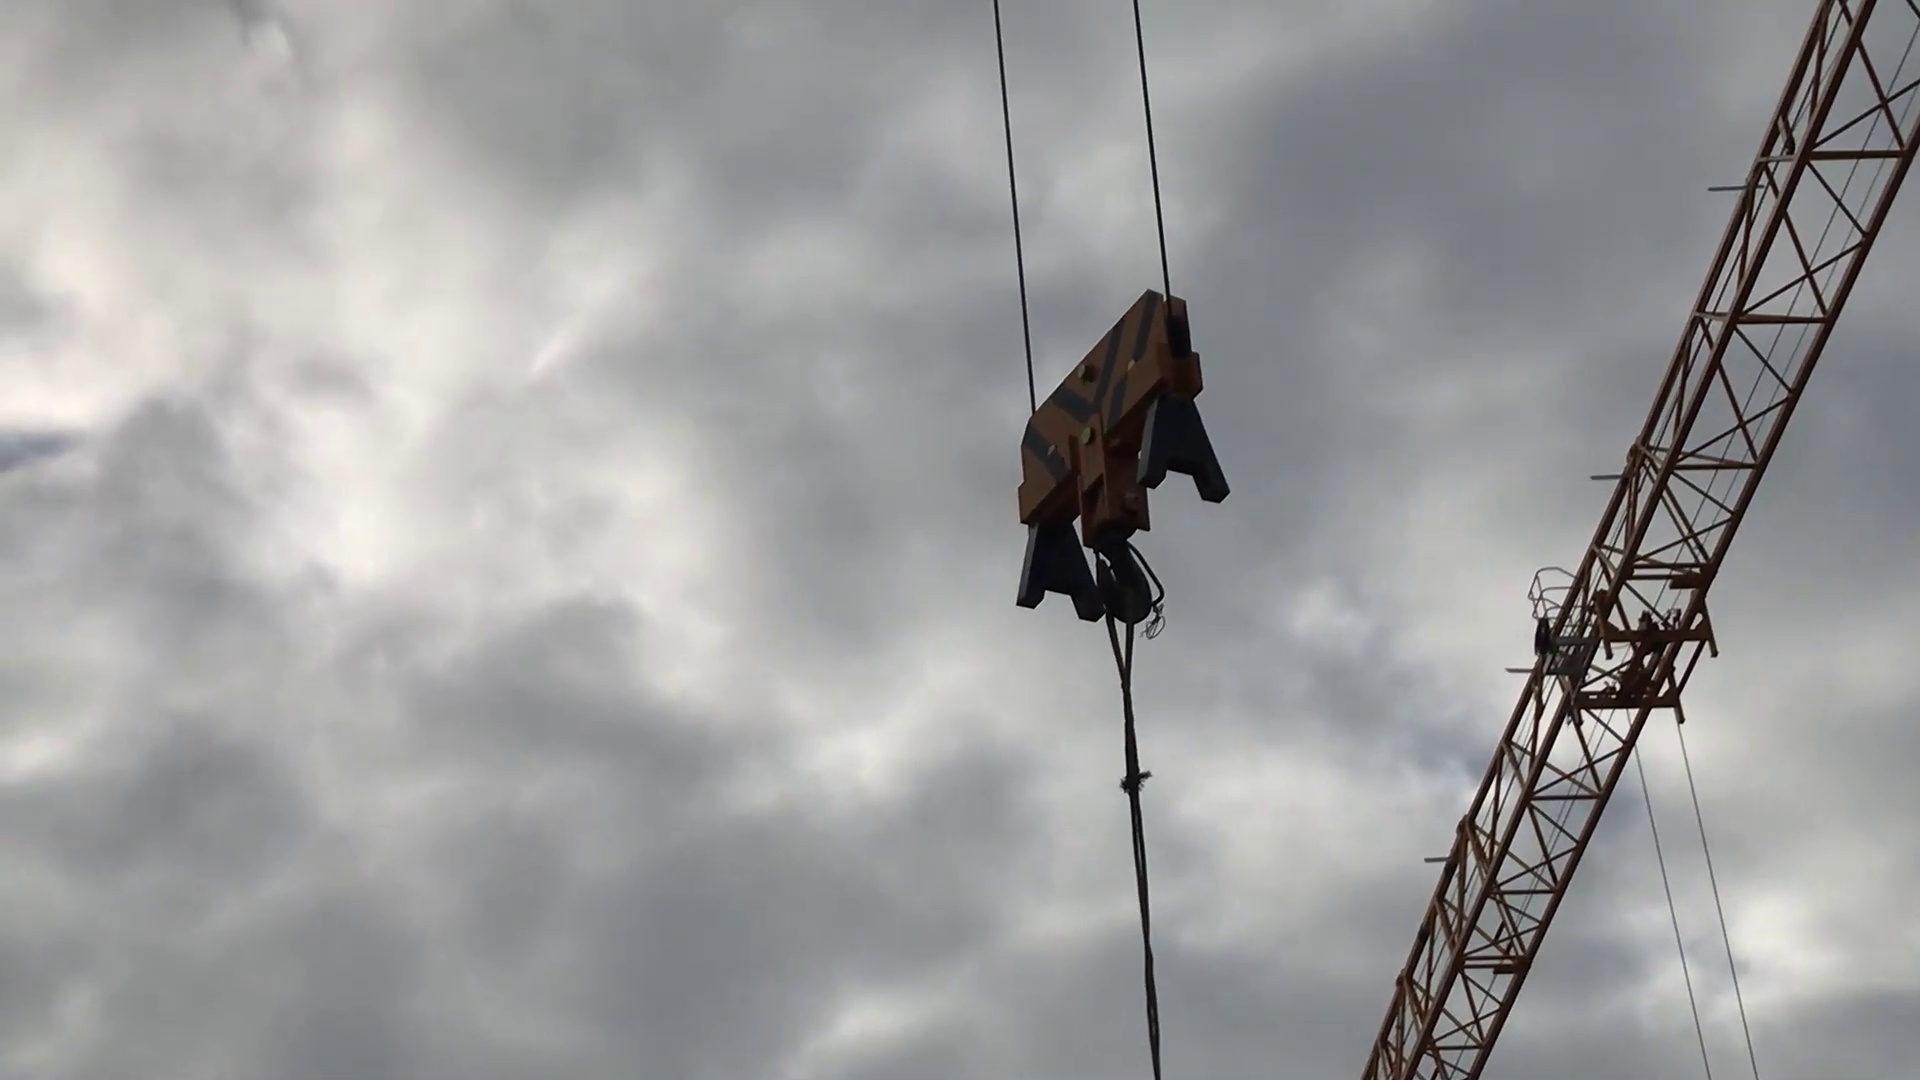hook: (1007, 278, 1240, 628)
